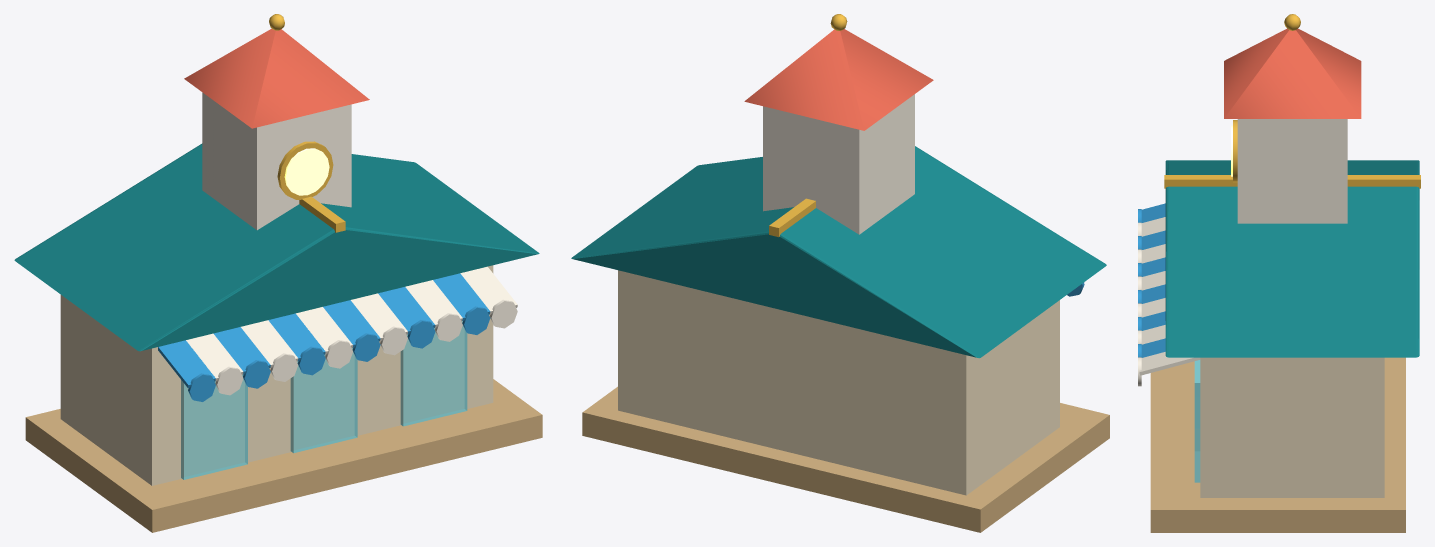
Rendered from maritime-terminal.glb.
3 renders of one model, left to right at view 1: azimuth 30°, elevation 25°; view 2: azimuth 150°, elevation 25°; view 3: azimuth 270°, elevation 25°, orthographic. The views are drawn at different scales.
Visible parts, largest first — view 1: Mesh_teal, Mesh_cream, Mesh_sandStone, Mesh_warmWhite, Mesh_glass, Mesh_skyBlue, Mesh_coral, Mesh_gold, Mesh_glowWarm; view 2: Mesh_cream, Mesh_teal, Mesh_sandStone, Mesh_warmWhite, Mesh_coral, Mesh_gold; view 3: Mesh_teal, Mesh_cream, Mesh_sandStone, Mesh_warmWhite, Mesh_coral, Mesh_skyBlue, Mesh_gold, Mesh_glass.
Part boxes in pixels (x1,y1,x2,y2): Mesh_teal: (14, 143, 539, 351); Mesh_cream: (60, 265, 493, 485); Mesh_sandStone: (25, 379, 542, 532); Mesh_warmWhite: (186, 92, 517, 395); Mesh_glass: (181, 321, 467, 479); Mesh_skyBlue: (158, 273, 490, 401); Mesh_coral: (184, 28, 369, 128); Mesh_gold: (269, 14, 345, 232); Mesh_glowWarm: (284, 148, 329, 195); Mesh_cream: (618, 270, 1059, 495); Mesh_teal: (571, 146, 1106, 358); Mesh_sandStone: (582, 386, 1109, 532); Mesh_warmWhite: (763, 94, 914, 234); Mesh_coral: (744, 29, 933, 130); Mesh_gold: (769, 14, 847, 237); Mesh_teal: (1165, 160, 1419, 357); Mesh_cream: (1200, 357, 1384, 497); Mesh_sandStone: (1150, 357, 1405, 532); Mesh_warmWhite: (1138, 119, 1347, 386); Mesh_coral: (1224, 28, 1361, 118); Mesh_skyBlue: (1138, 203, 1165, 357); Mesh_gold: (1164, 14, 1420, 188); Mesh_glass: (1194, 360, 1200, 482).
Size of the model in its own units: 6.58 by 6.57 by 3.99.
